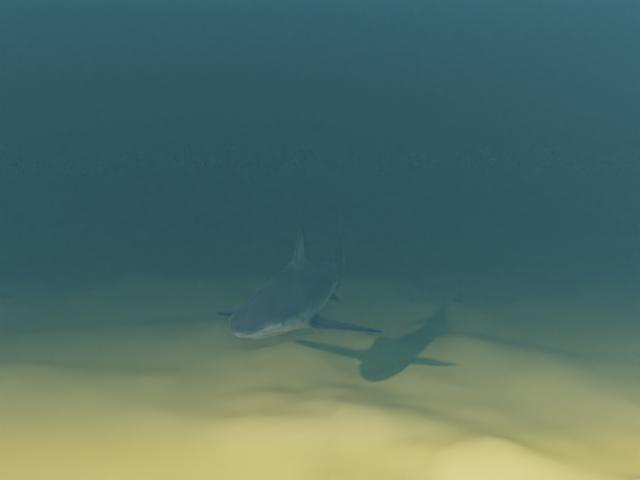Carribean Shark.001: (215, 208, 383, 338)
